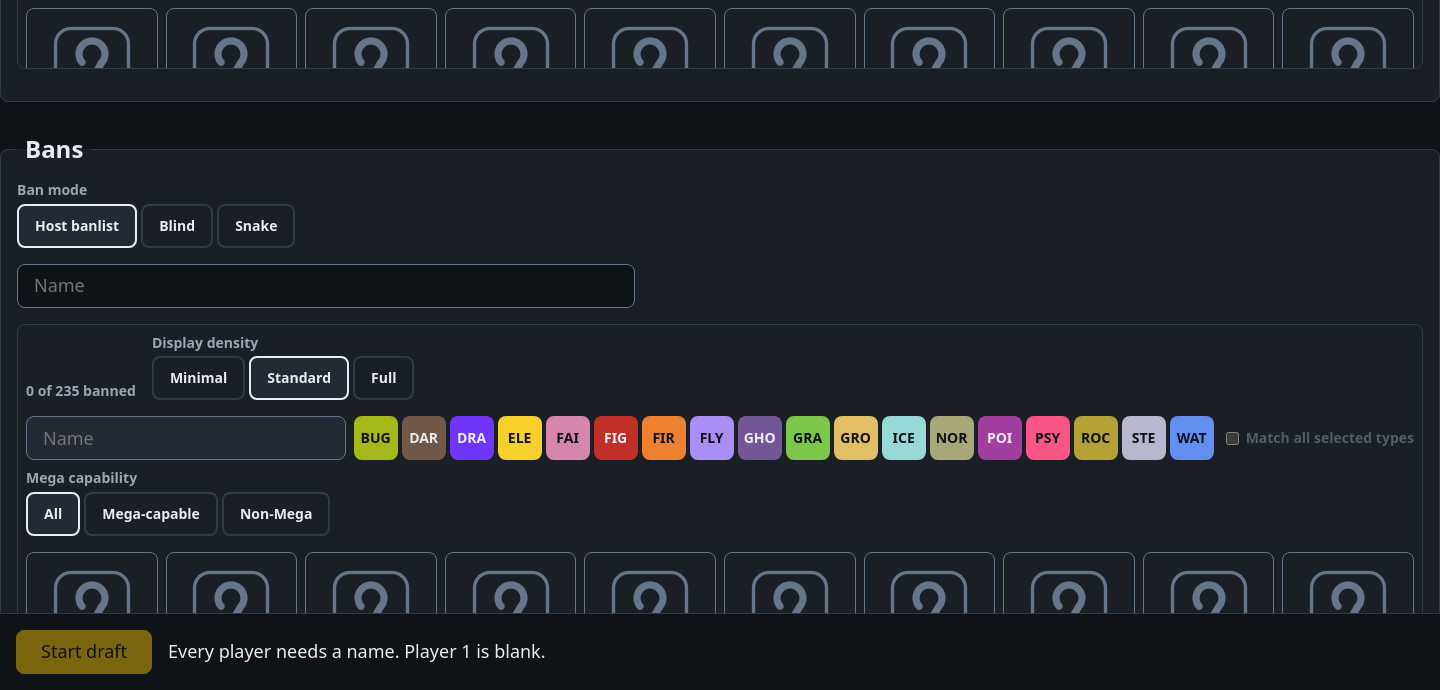
Test: the ban typeahead › says so when nothing matches, without a listbox
(page scrolled)
Type "zzz" into the dropdown with class "typeahead__input". click: (326, 286)
box: [17, 264, 635, 308]
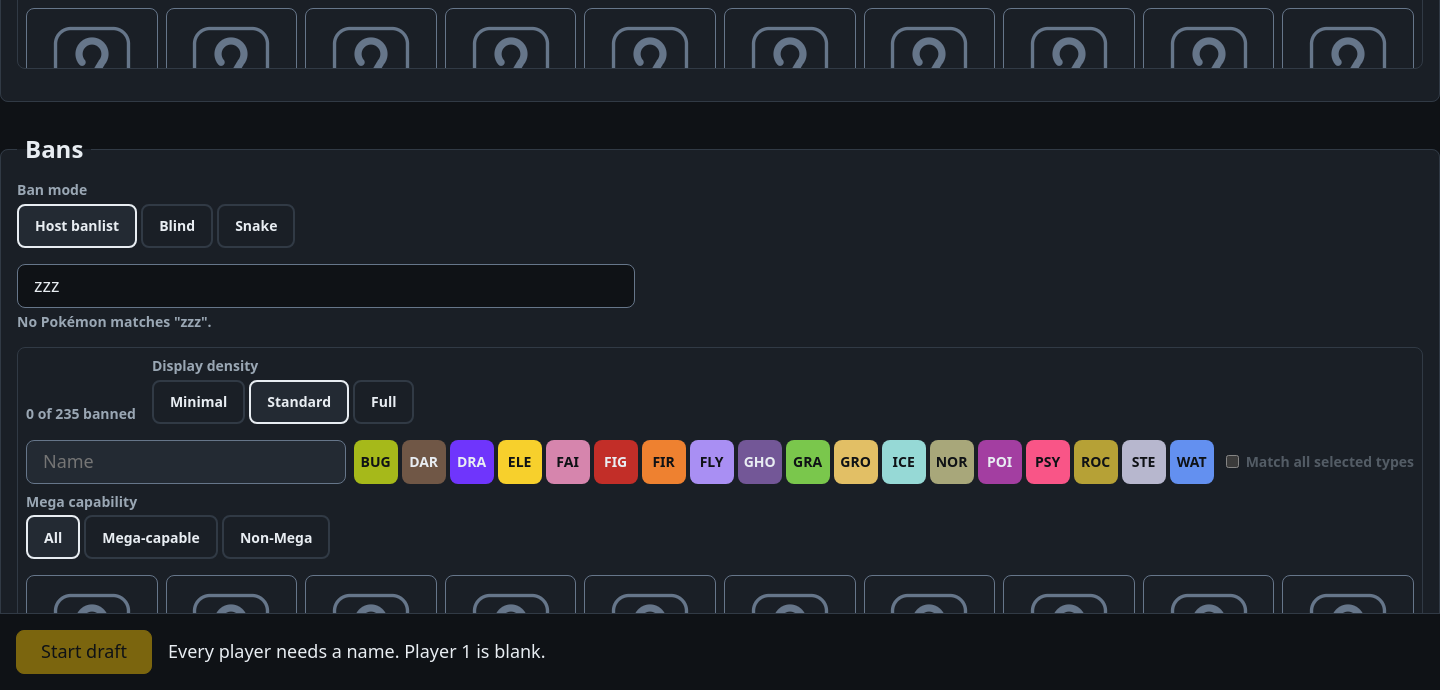
expect the message with class "typeahead__empty" reads "No Pokémon matches \"zzz\".": met, box [17, 312, 212, 331]
